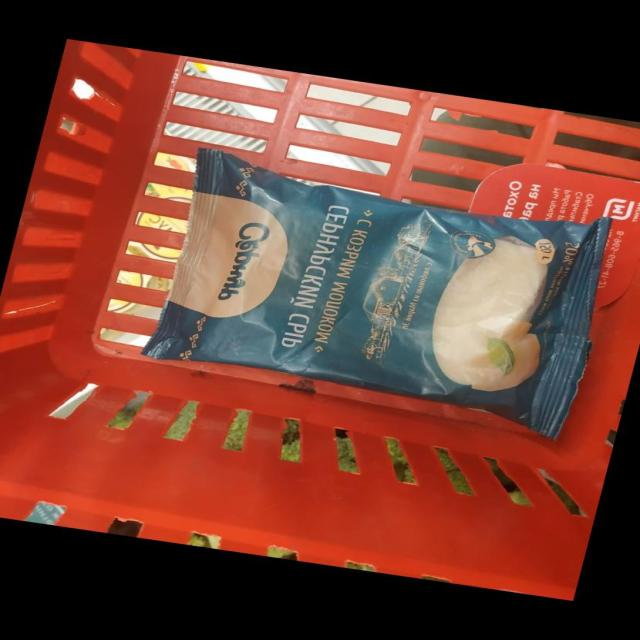Cheese: (143, 150, 610, 438)
